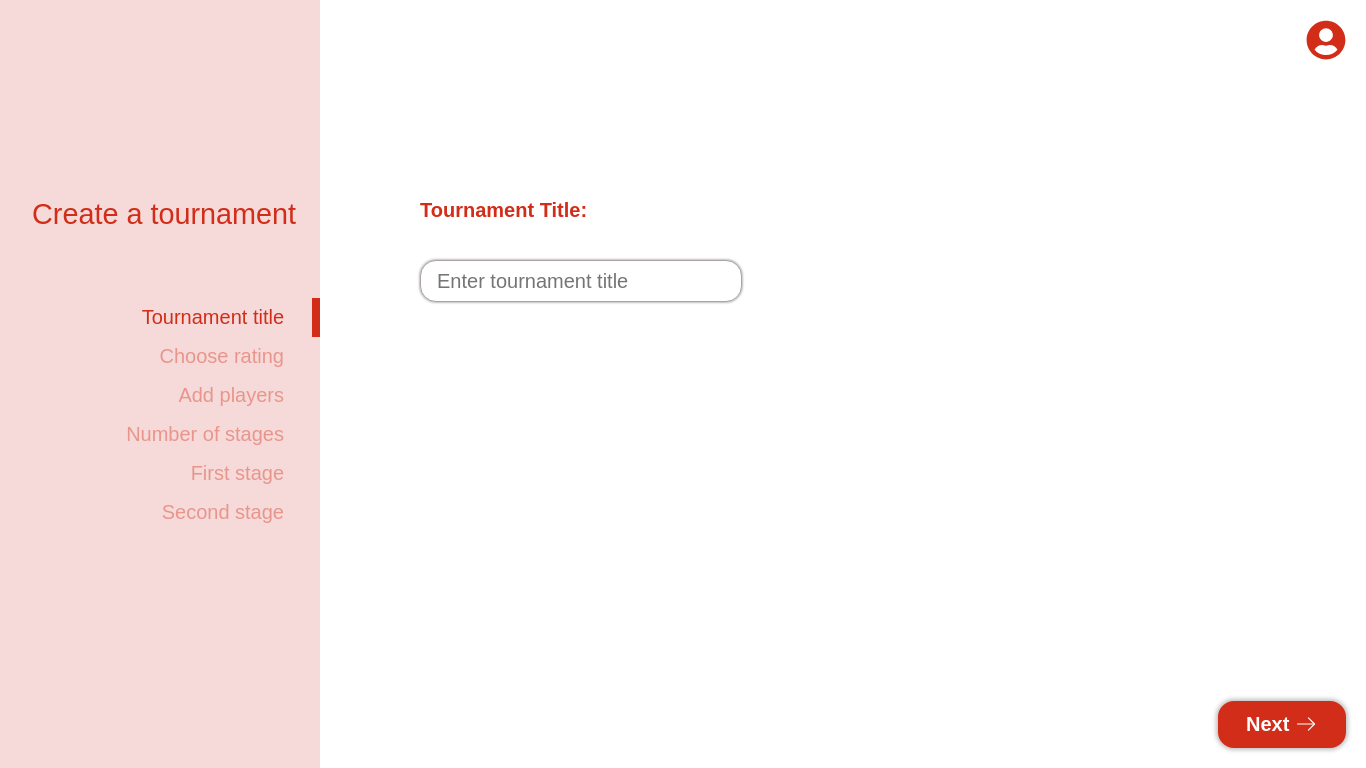
Test: Fourth tab
Click the button with test id "num-stages-tab": [223, 434] box [126,415,320,454]
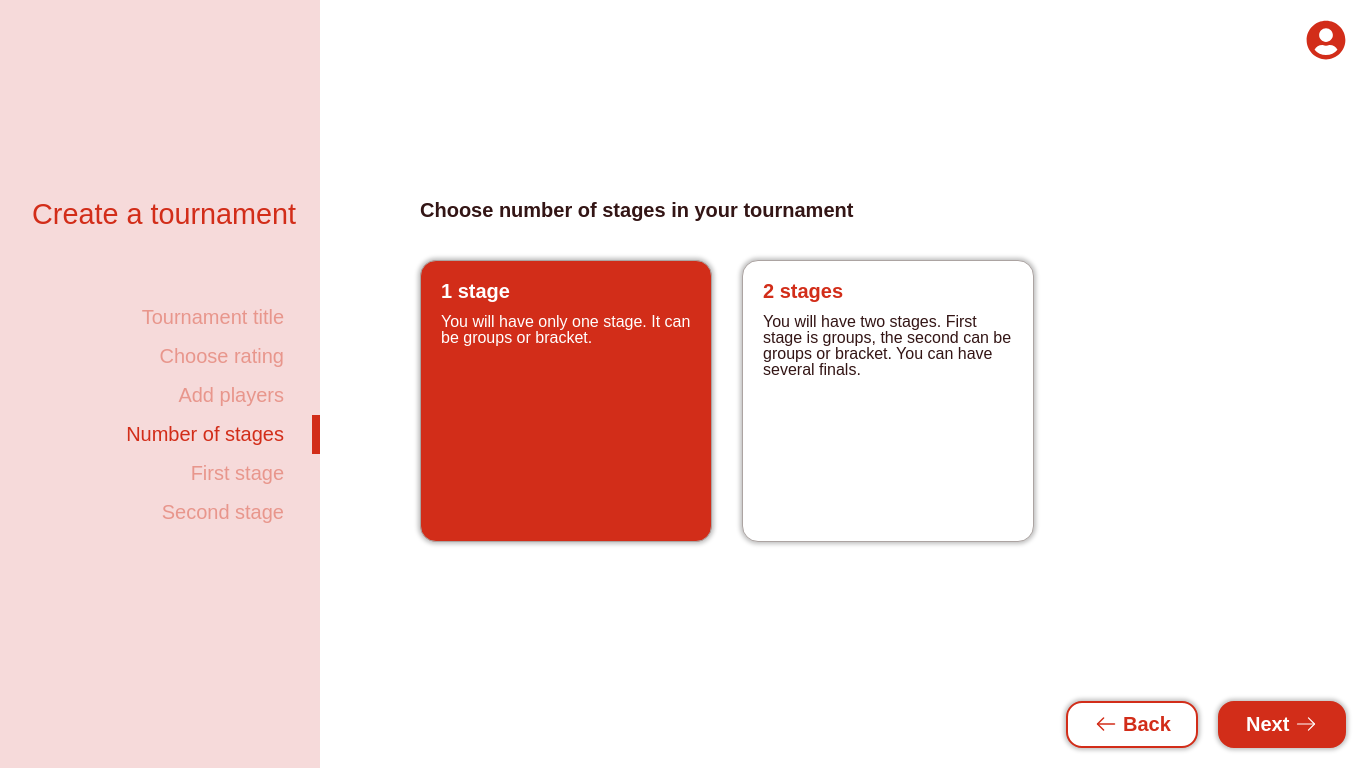
Now the text "Choose number of stages in your tournament" is shown, box [420,199,853,221]
